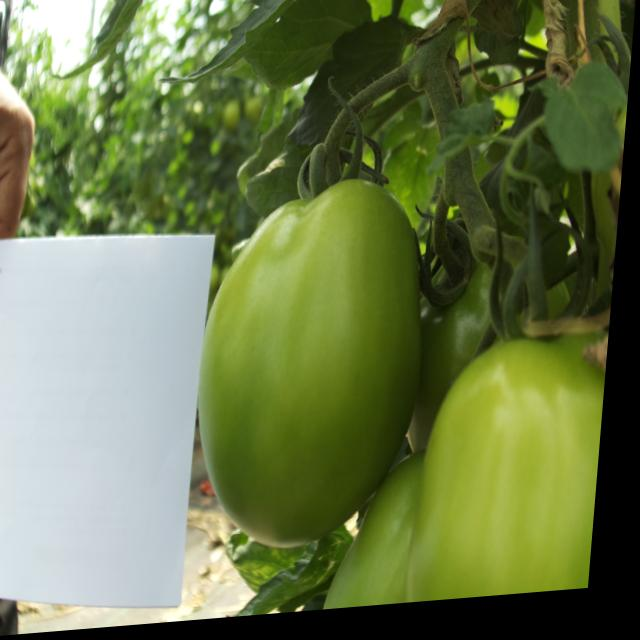yesil: (184, 144, 628, 625)
